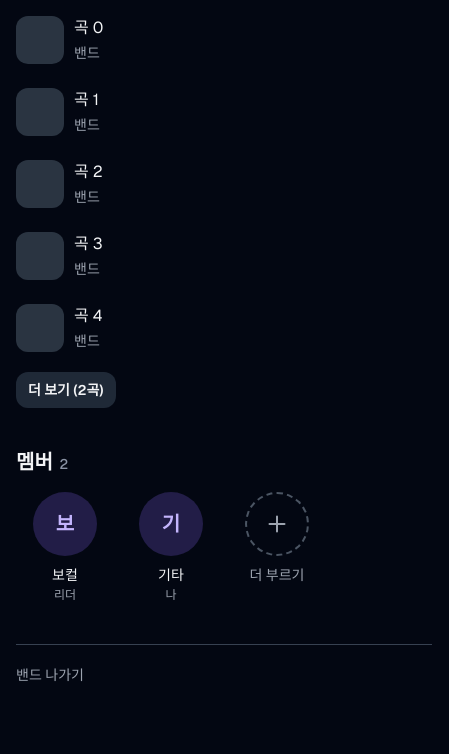
BandHomeClient rooms shelf and played songs (26A, E1) › shows five songs and a 더 보기 for the rest
This screenshot has width=449, height=754.
(page scrolled)
Expected: the text "곡 6" is not shown
Click the button "더 보기 (2곡)" at coordinates (66, 390), box x1=16 y1=372 x2=116 y2=408
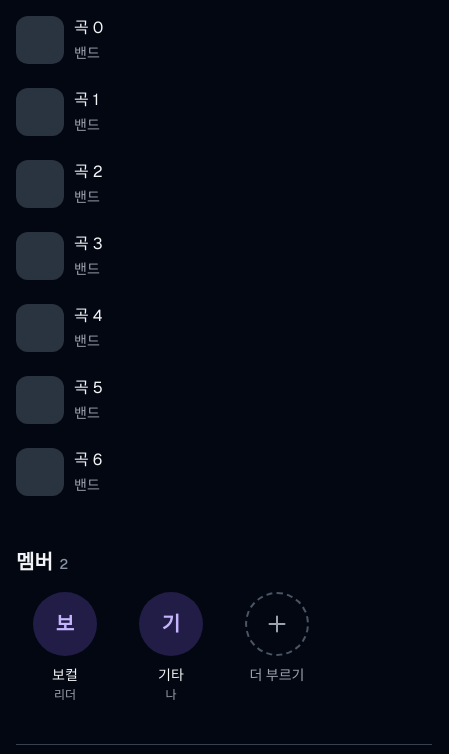
Expected: the text "곡 6" is shown, x1=74 y1=449 x2=102 y2=470
